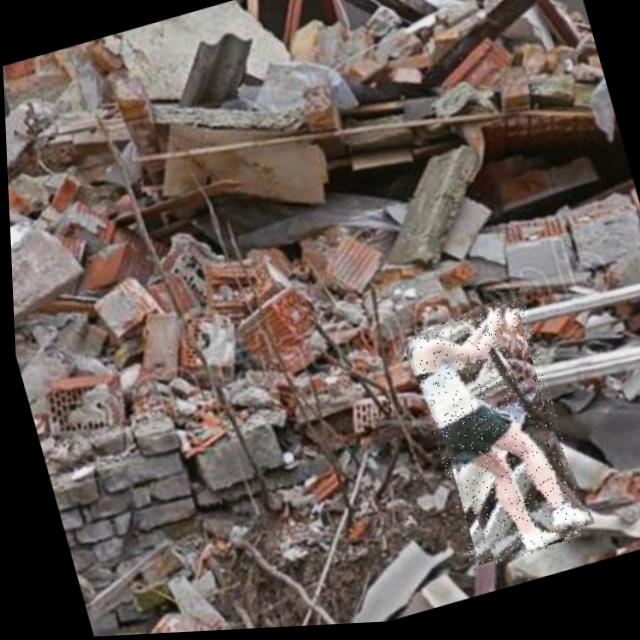Person in Rubble: (401, 298, 585, 577)
